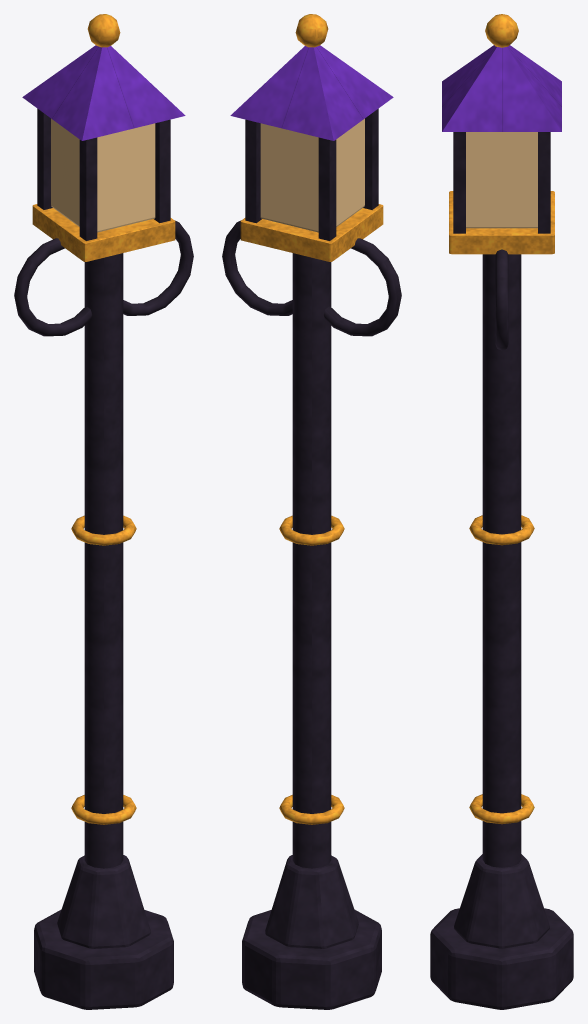
File: MO_StreetLamp.fbx
3 renders of one model, left to right at view 1: azimuth 30°, elevation 25°; view 2: azimuth 150°, elevation 25°; view 3: azimuth 270°, elevation 25°, orthographic.
Visible parts, largest first — view 1: MO_StreetLamp; view 2: MO_StreetLamp; view 3: MO_StreetLamp.
Boxes of the visible parts, x1,y1,x2,y2 form: MO_StreetLamp: [14, 14, 193, 1009]; MO_StreetLamp: [222, 14, 401, 1009]; MO_StreetLamp: [430, 14, 573, 1009].
Bounding box in the file's own units: 1.07 × 5.54 × 0.7465.
